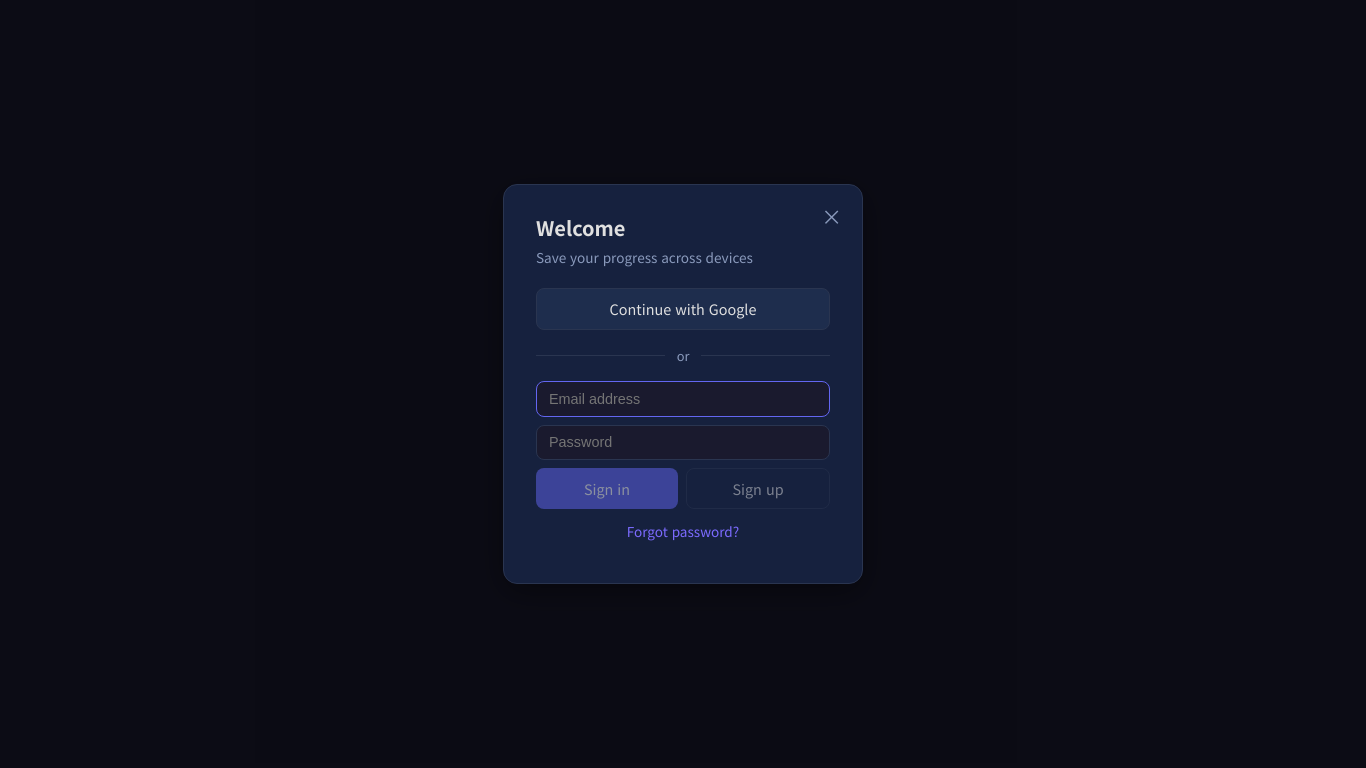
Test: AuthModal — sign-in / sign-up flow › shows error message on sign-in failure
Step 1. Type "test@example.com" into the field with placeholder "Email address" → (683, 399), box x1=536 y1=381 x2=830 y2=417
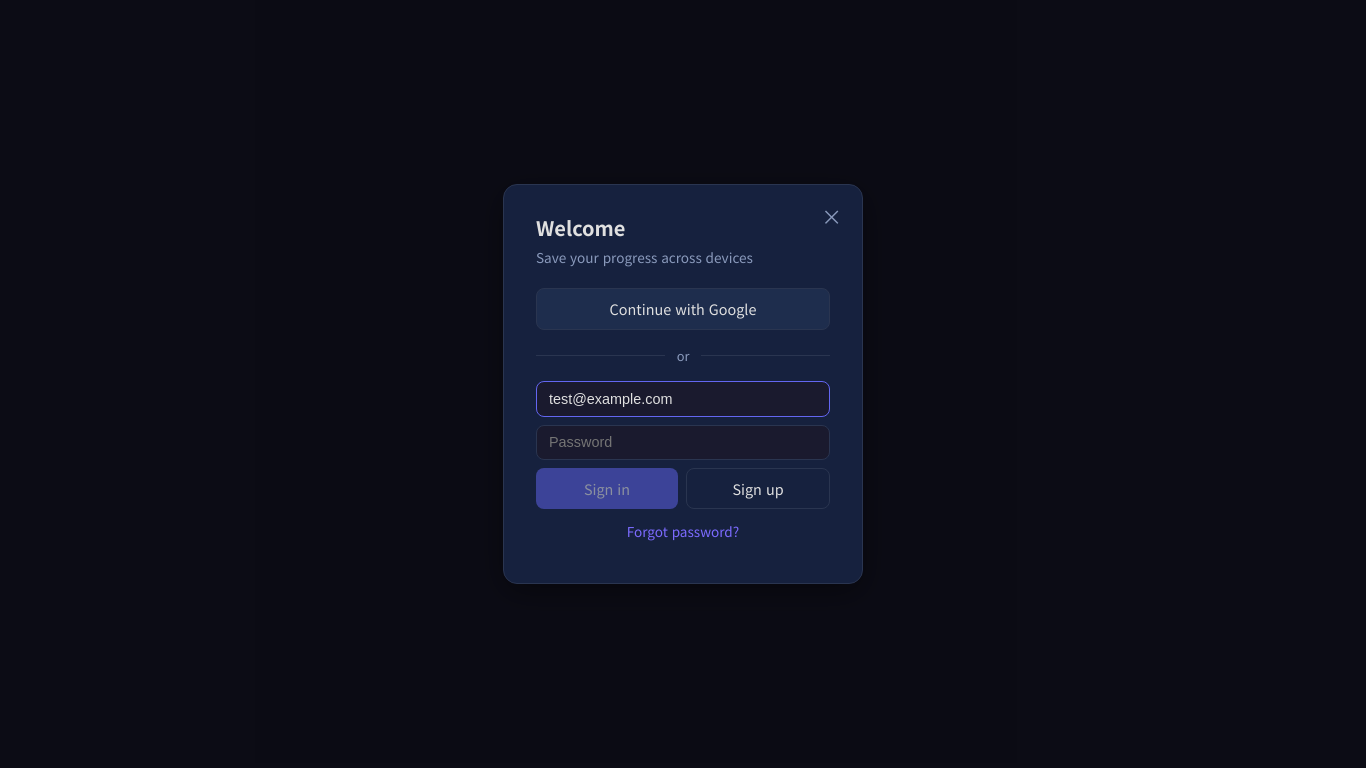
Step 2. Type "wrong" into the password field with placeholder "Password" → (683, 442), box x1=536 y1=425 x2=830 y2=460
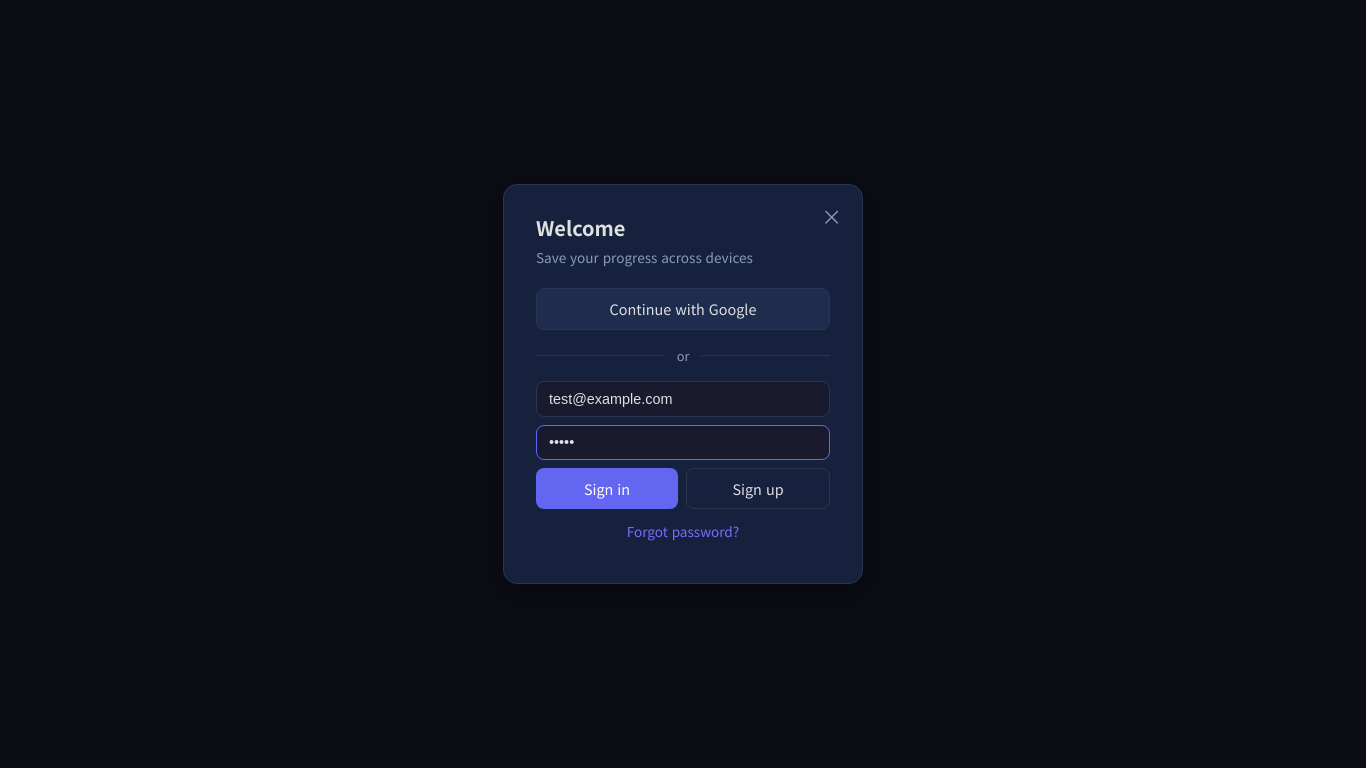
Step 3. Click the button "Sign in" → (607, 488), box x1=536 y1=468 x2=678 y2=509
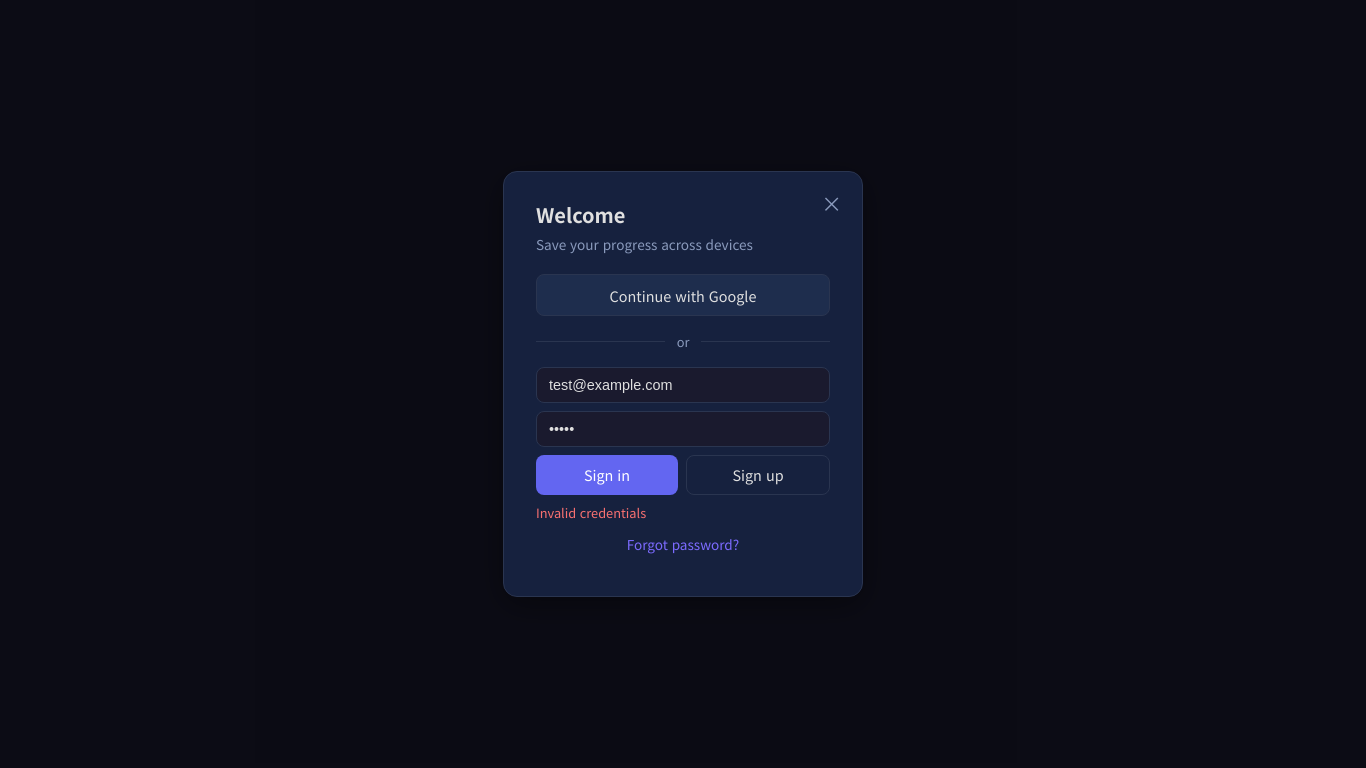
Now the text "Invalid credentials" is shown, box x1=536 y1=503 x2=646 y2=522
